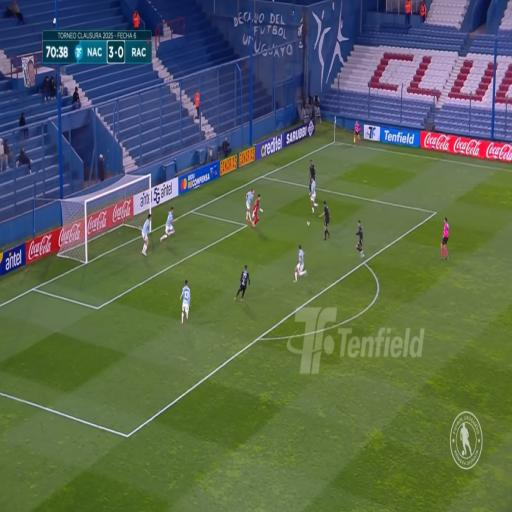Ball: (306, 219, 310, 226)
Goalkeeper: (252, 192, 263, 227)
Player: (180, 278, 192, 324), (140, 212, 152, 257), (163, 208, 178, 242), (297, 242, 308, 285), (235, 266, 248, 302), (355, 215, 366, 257), (320, 203, 330, 238), (309, 176, 318, 214), (309, 160, 317, 197), (244, 190, 254, 218)
Referee: (440, 216, 451, 257), (354, 120, 360, 145)
